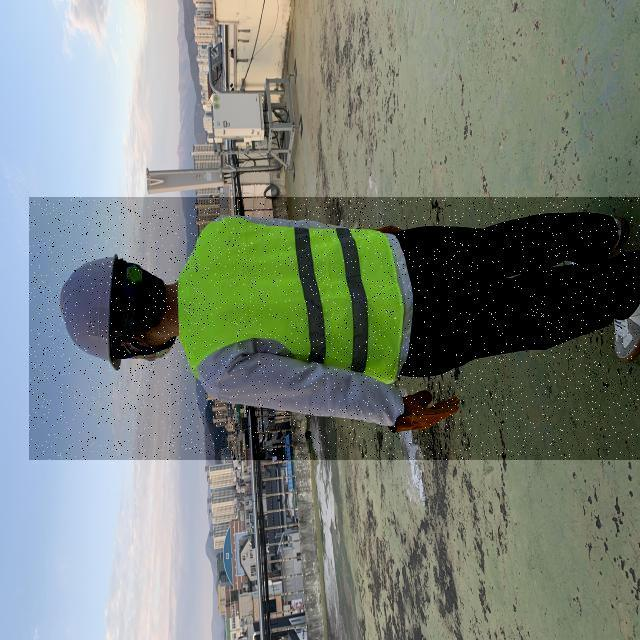Gloves: (383, 383, 469, 440)
Helmet: (52, 252, 126, 373)
Person: (33, 204, 640, 446)
Safety Boot: (604, 259, 640, 363)
Safety Vest: (178, 216, 406, 382)
